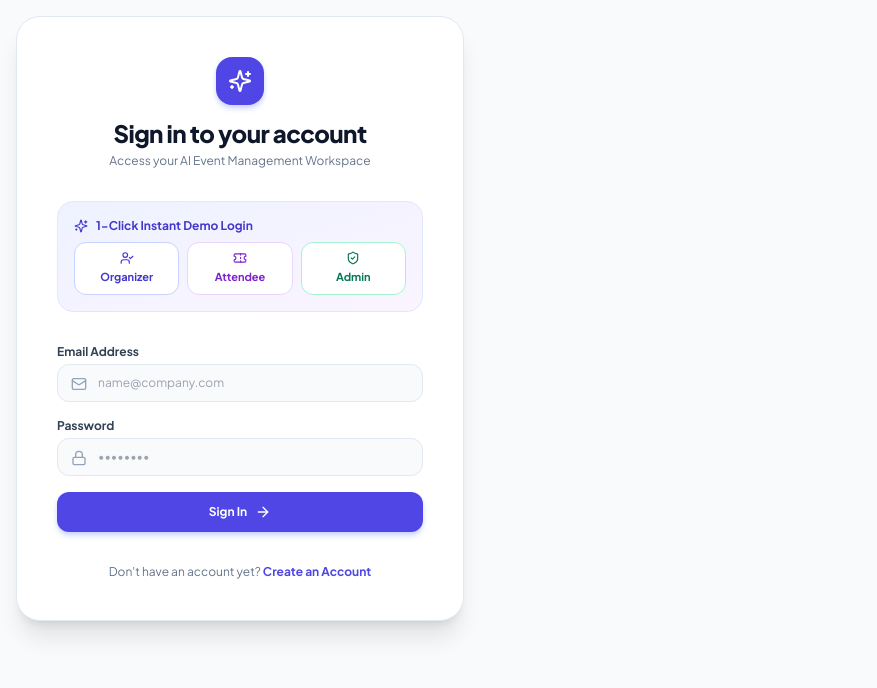
Scenario: Login/Register Form Validation › handles backend authentication failure on Login with invalid credentials
In the field with placeholder "name@company.com": (240, 382) x1=57 y1=364 x2=423 y2=402, type "wrong@example.com"
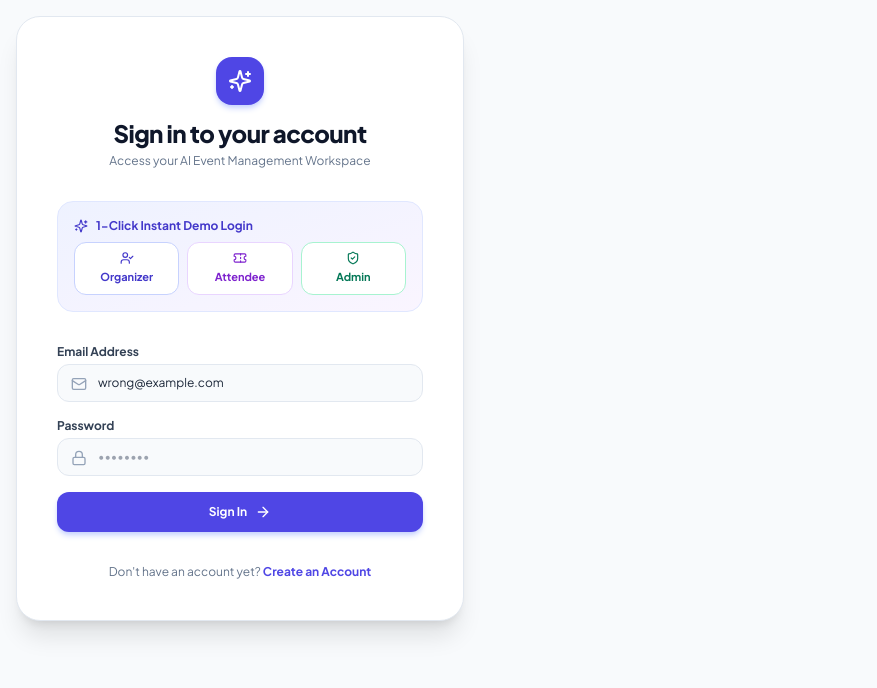
In the password field with placeholder "••••••••": (240, 456) x1=57 y1=438 x2=423 y2=476, type "wrongpassword"
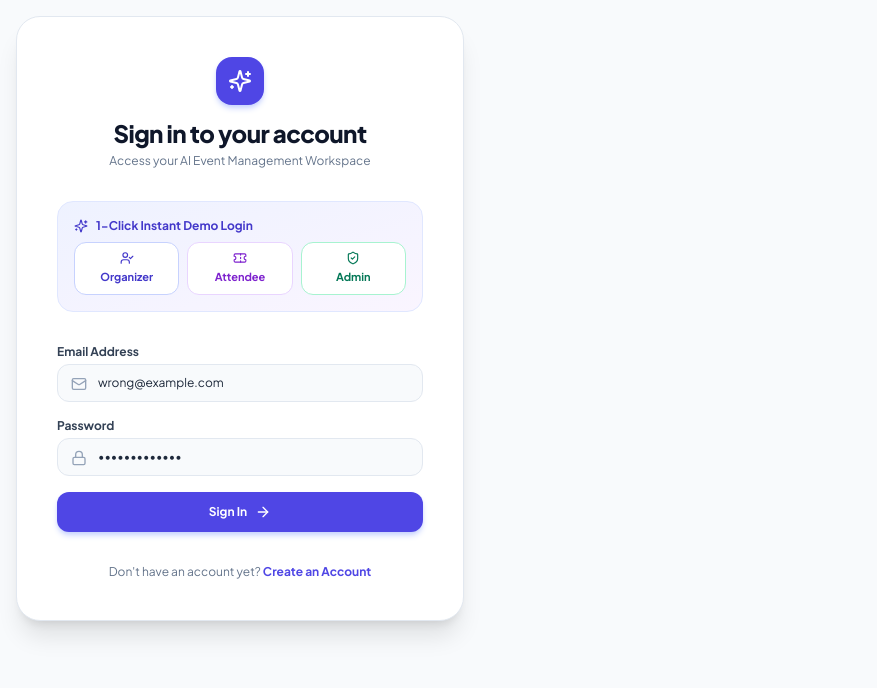
Submit the form "Email Address Password Sign In", box x1=57 y1=344 x2=423 y2=532
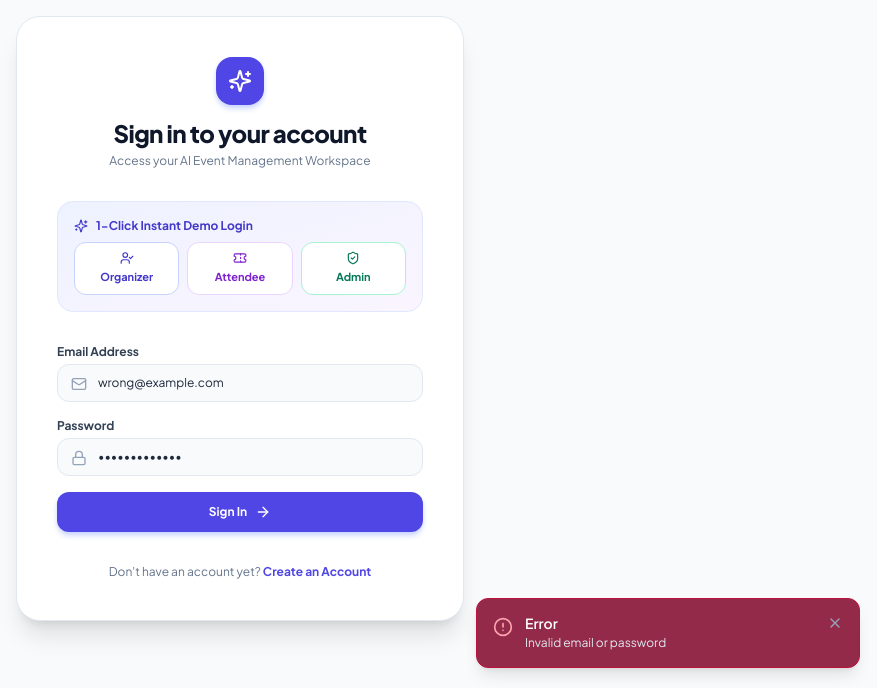
Now the text "Invalid email or password" is shown, box x1=525 y1=634 x2=666 y2=650
